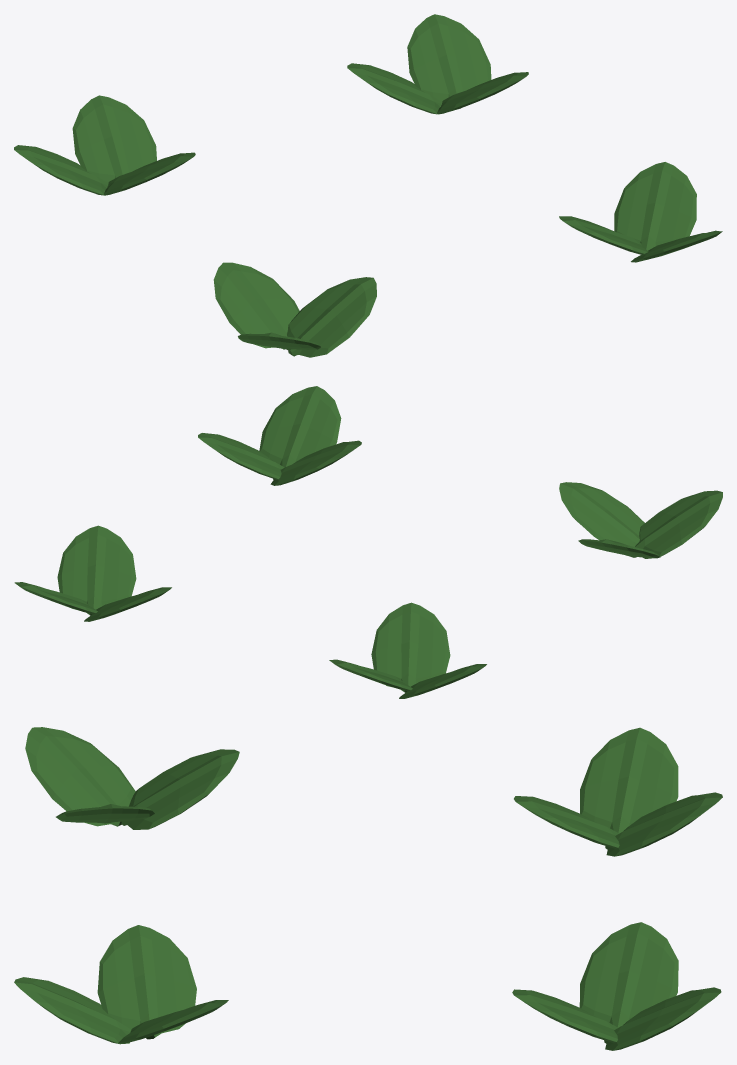
File: grass5.gltf
The picture shows the model from 3 angles, top to bottom: view 1: azimuth 30°, elevation 25°; view 2: azimuth 150°, elevation 25°; view 3: azimuth 270°, elevation 25°; orthographic projection. The views are drawn at different scales.
Parts seen in each view (by area): view 1: feuille.002, feuille.001, feuille.005, feuille.003; view 2: feuille.003, feuille.002, feuille.005, feuille.001; view 3: feuille.005, feuille.001, feuille.003, feuille.002.
Boxes of the visible parts, left/top/right/bottom form: feuille.002: left=213, top=262, right=376, bottom=357; feuille.001: left=347, top=14, right=528, bottom=114; feuille.005: left=14, top=95, right=195, bottom=195; feuille.003: left=559, top=162, right=722, bottom=262; feuille.003: left=198, top=386, right=361, bottom=485; feuille.002: left=559, top=482, right=722, bottom=558; feuille.005: left=329, top=602, right=486, bottom=698; feuille.001: left=14, top=525, right=171, bottom=621; feuille.005: left=514, top=727, right=722, bottom=856; feuille.001: left=512, top=922, right=721, bottom=1050; feuille.003: left=14, top=925, right=228, bottom=1044; feuille.002: left=25, top=727, right=239, bottom=829.
Size of the model in its own units: 5.3 by 0.5614 by 5.52.
